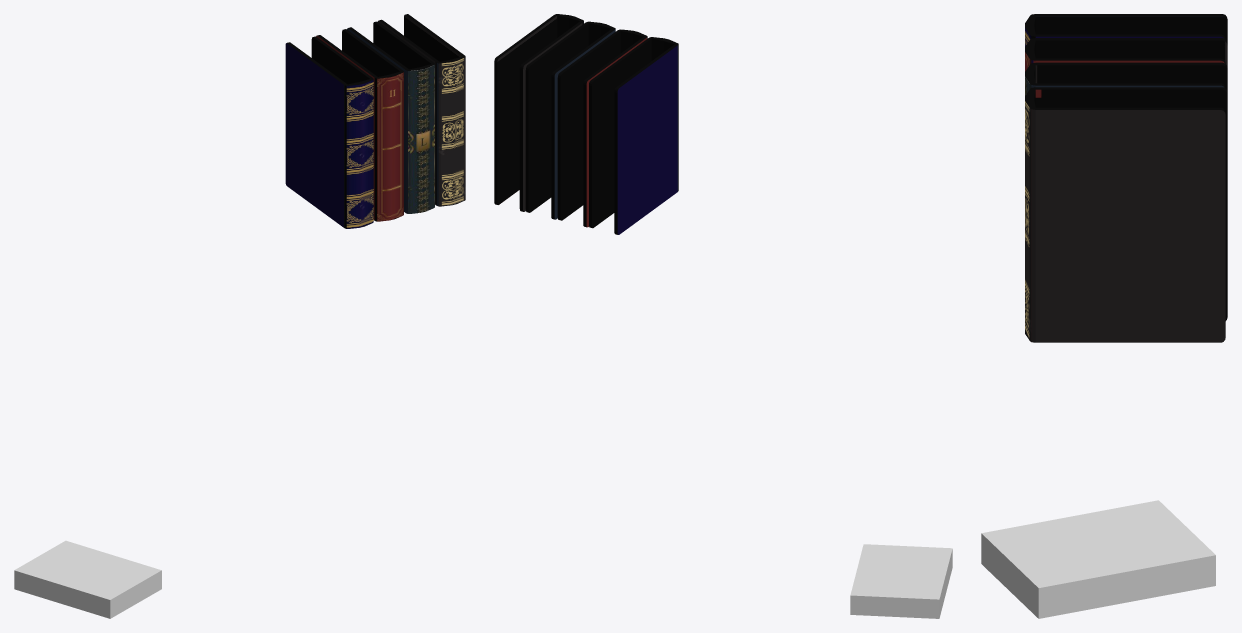
File: books.fbx
3 renders of one model, left to right at view 1: azimuth 30°, elevation 25°; view 2: azimuth 150°, elevation 25°; view 3: azimuth 270°, elevation 25°, orthographic. The views are drawn at different scales.
Parts seen in each view (by area): view 1: Cube.054, Cube.109, Cube.035, Cube.034, Cube.036; view 2: Cube.054, Cube.109, Cube.035, Cube.034, Cube.036; view 3: Cube.034, Cube.109, Cube.035, Cube.036, Cube.054.
Part boxes in pixels (x1,y1,x2,y2): Cube.054: (285, 36, 373, 228); Cube.109: (14, 540, 161, 618); Cube.035: (347, 21, 434, 213); Cube.034: (378, 14, 465, 206); Cube.036: (316, 29, 403, 221); Cube.054: (589, 37, 678, 234); Cube.109: (850, 544, 952, 618); Cube.035: (525, 21, 615, 219); Cube.034: (494, 14, 583, 211); Cube.036: (557, 29, 647, 227); Cube.034: (1025, 87, 1227, 342); Cube.109: (981, 500, 1215, 618); Cube.035: (1025, 62, 1227, 95); Cube.036: (1025, 38, 1227, 71); Cube.054: (1025, 14, 1227, 46).
Size of the model in its own units: 541 by 576 by 172.
